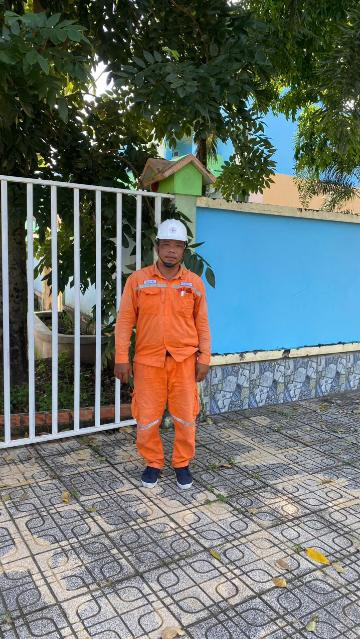helmet: (153, 220, 194, 243)
shoes: (138, 456, 164, 490), (168, 463, 199, 489)
